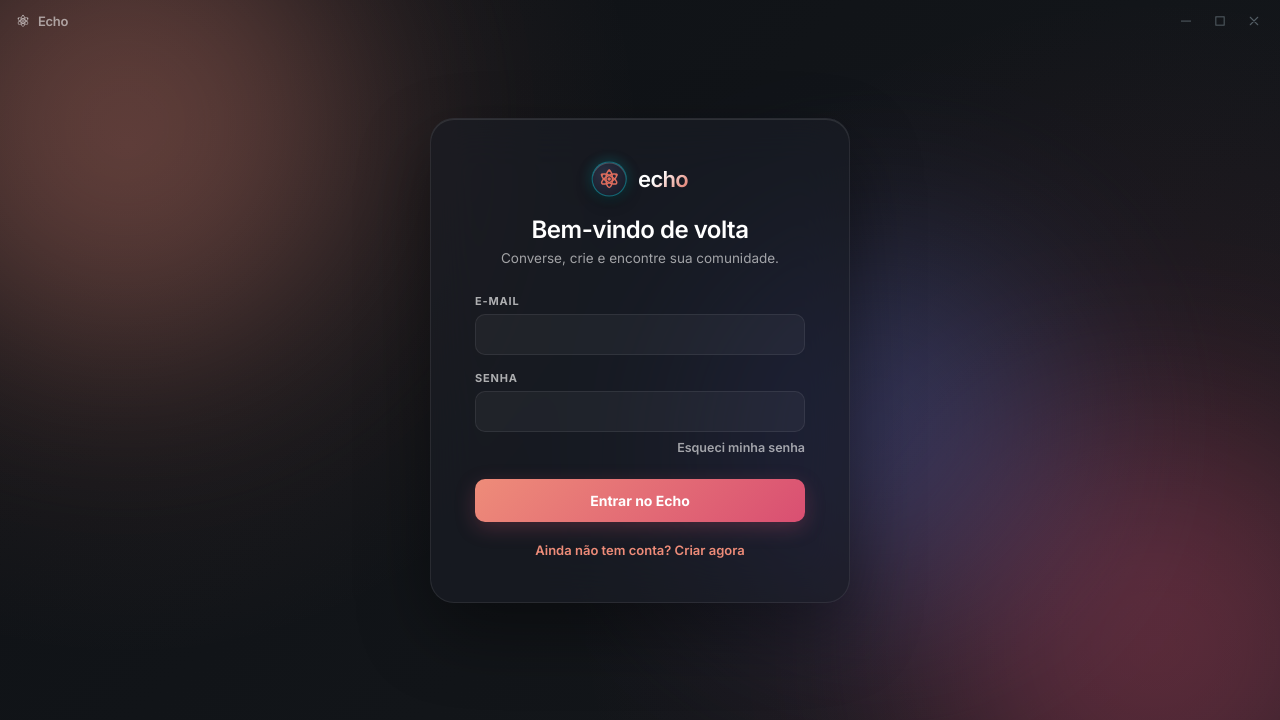
Test case: Tela de login › falha de rede não derruba a tela: mostra aviso e libera o botão de novo
The image size is (1280, 720).
Type "ana@exemplo.test" into the field labelled "E-mail" at (640,334), box [475,314,805,354]
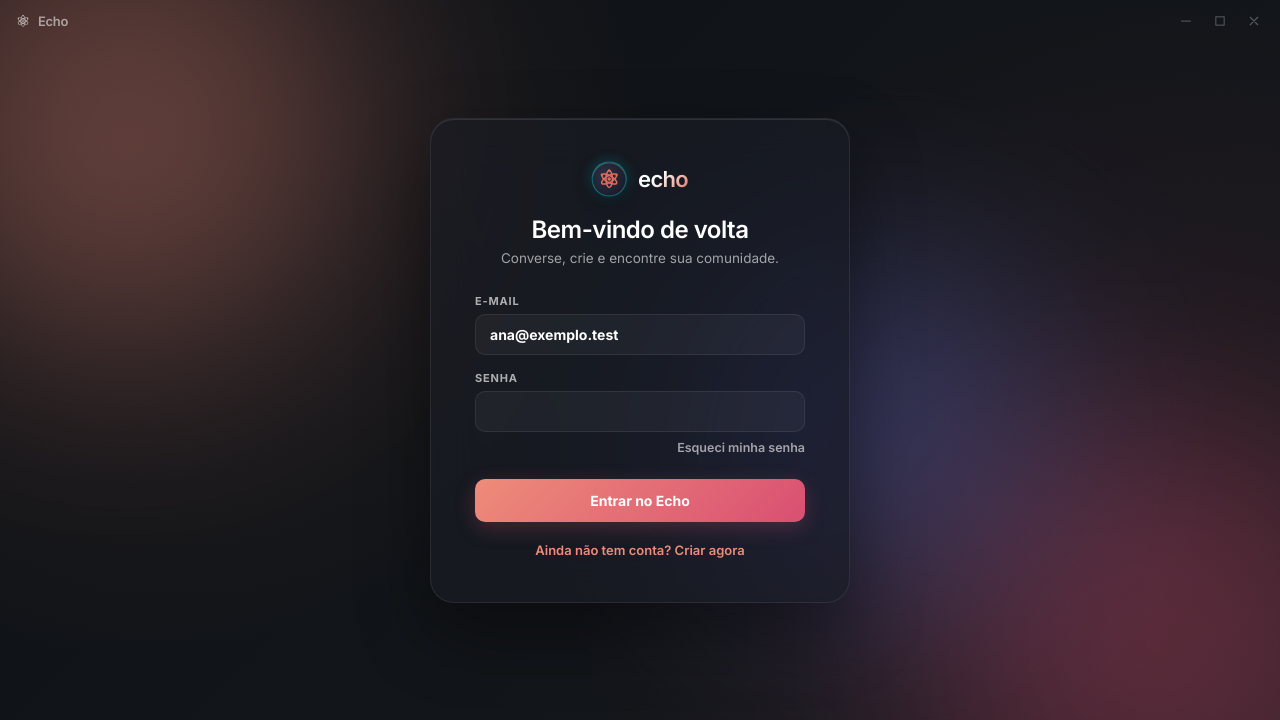
Type "segredo-1" into the password field labelled "Senha" at (640,411), box [475,390,805,432]
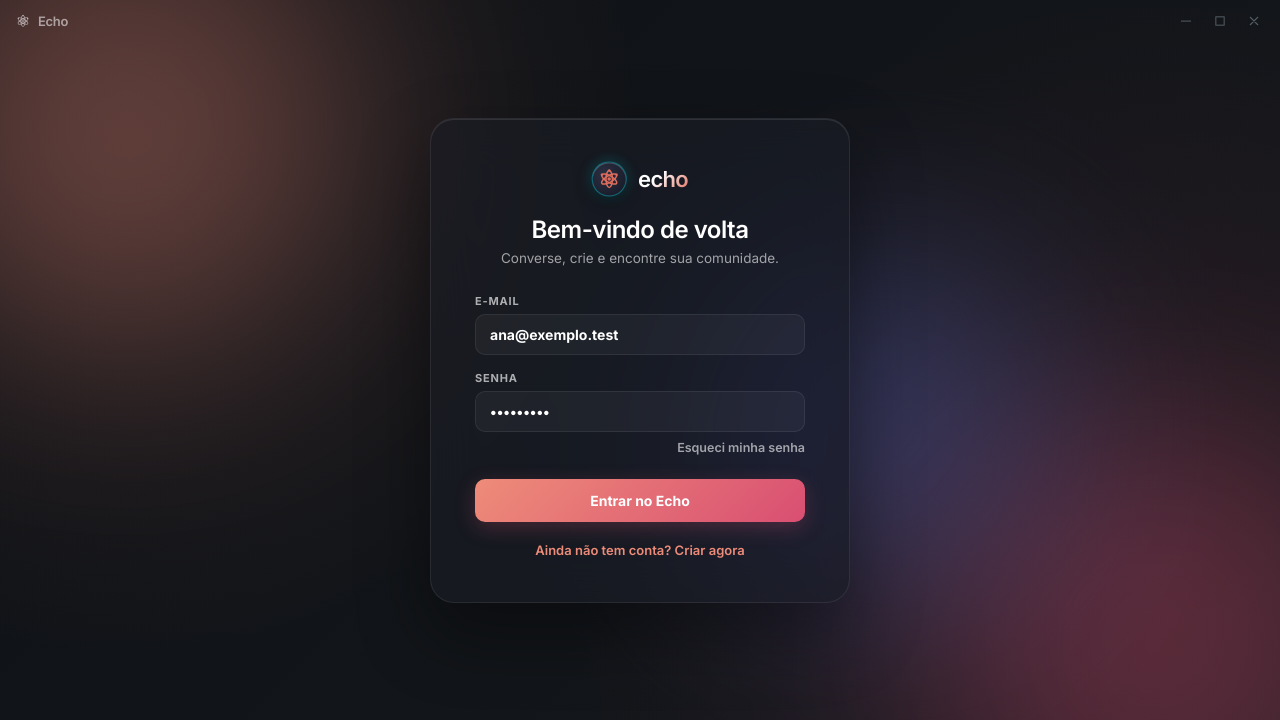
Submit the form, box [475,294,805,522]
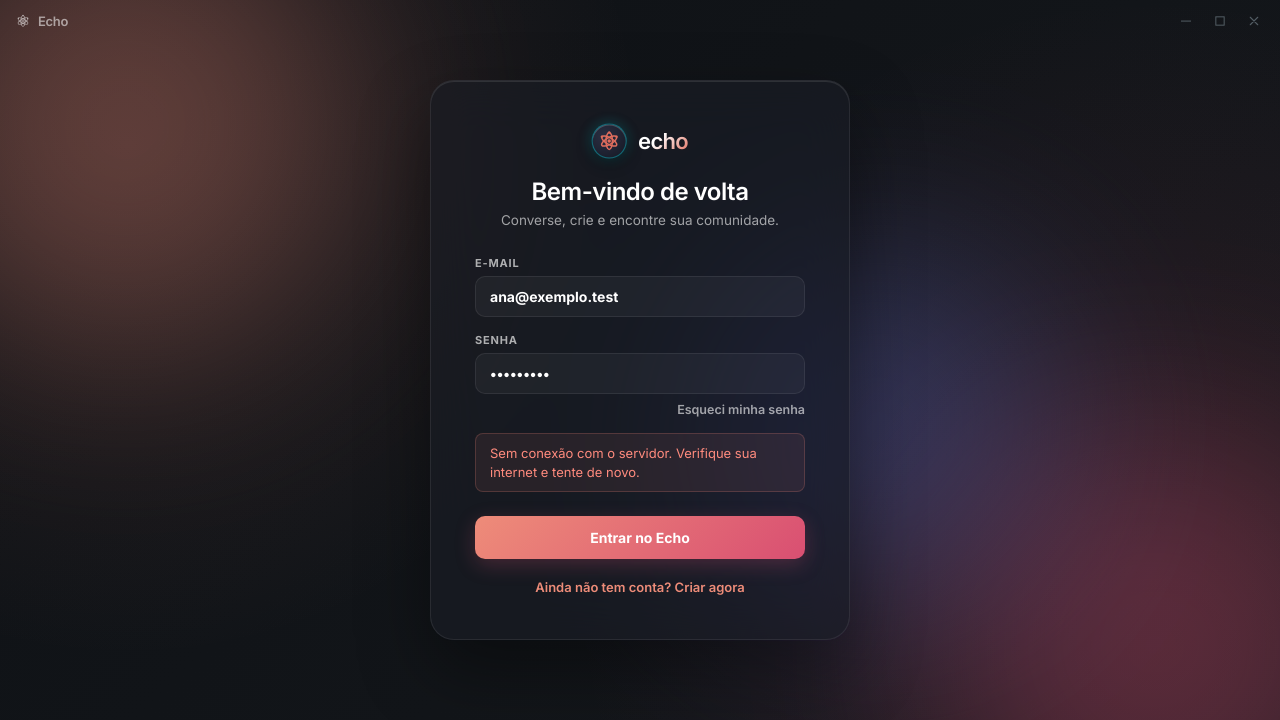
expect the button with class "auth-submit" is enabled: met, box [475,516,805,559]
expect the text "Sem conexão com o servidor" is shown: met, box [490,445,757,480]
